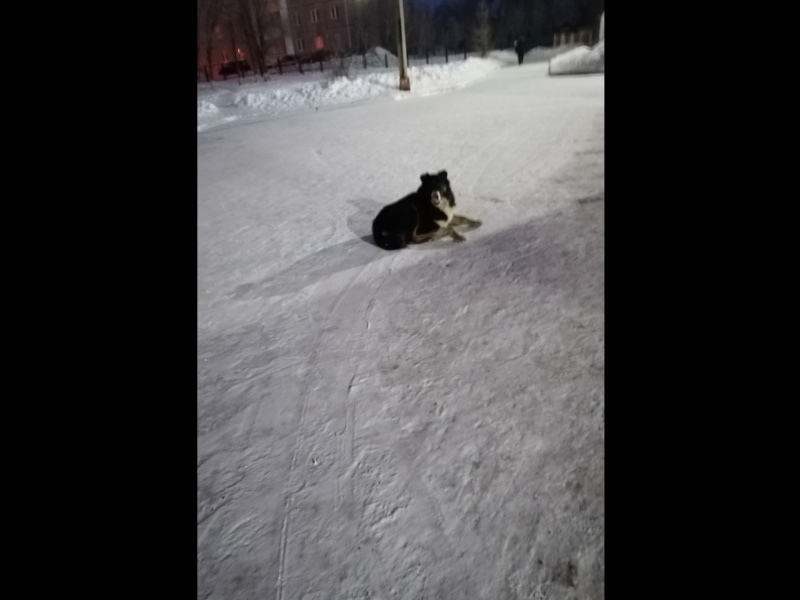dog: (364, 168, 485, 251)
